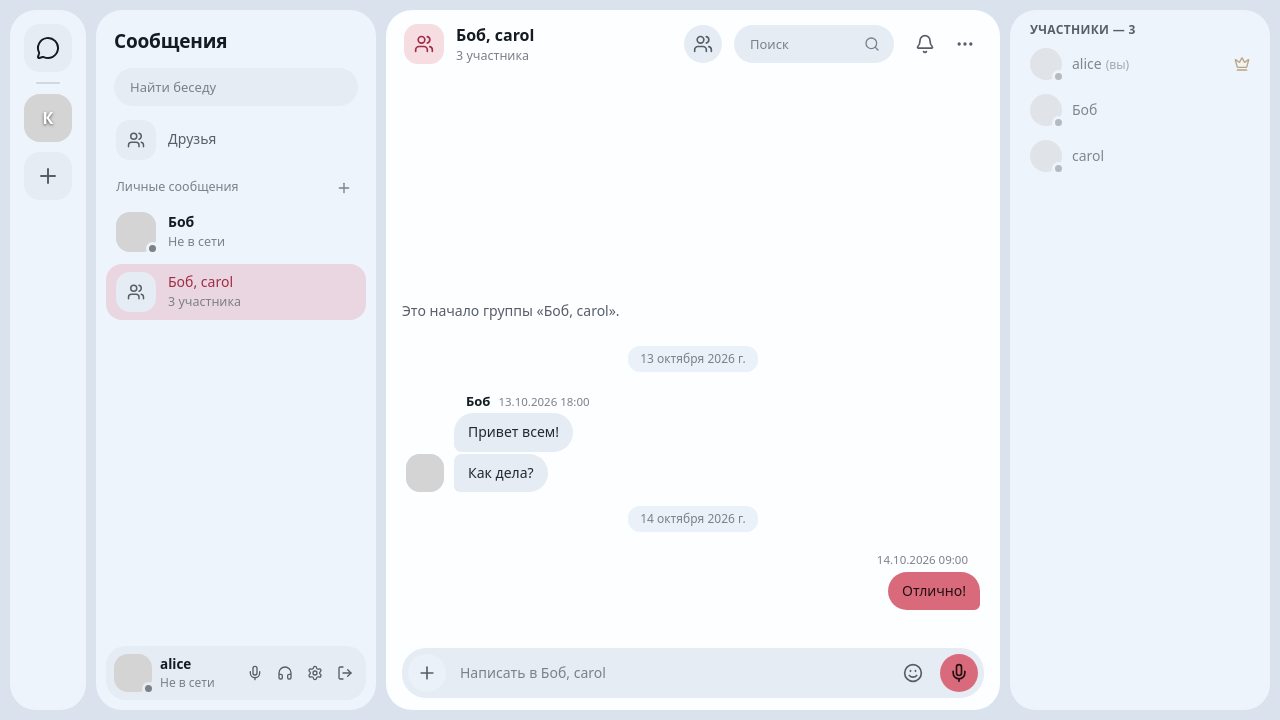
Scenario: group DMs › keeps the group actions behind "more" too, for screens with no room for them
The width and height of the screenshot is (1280, 720).
Click the button named "Ещё" at (965, 44), box [946, 25, 984, 63]
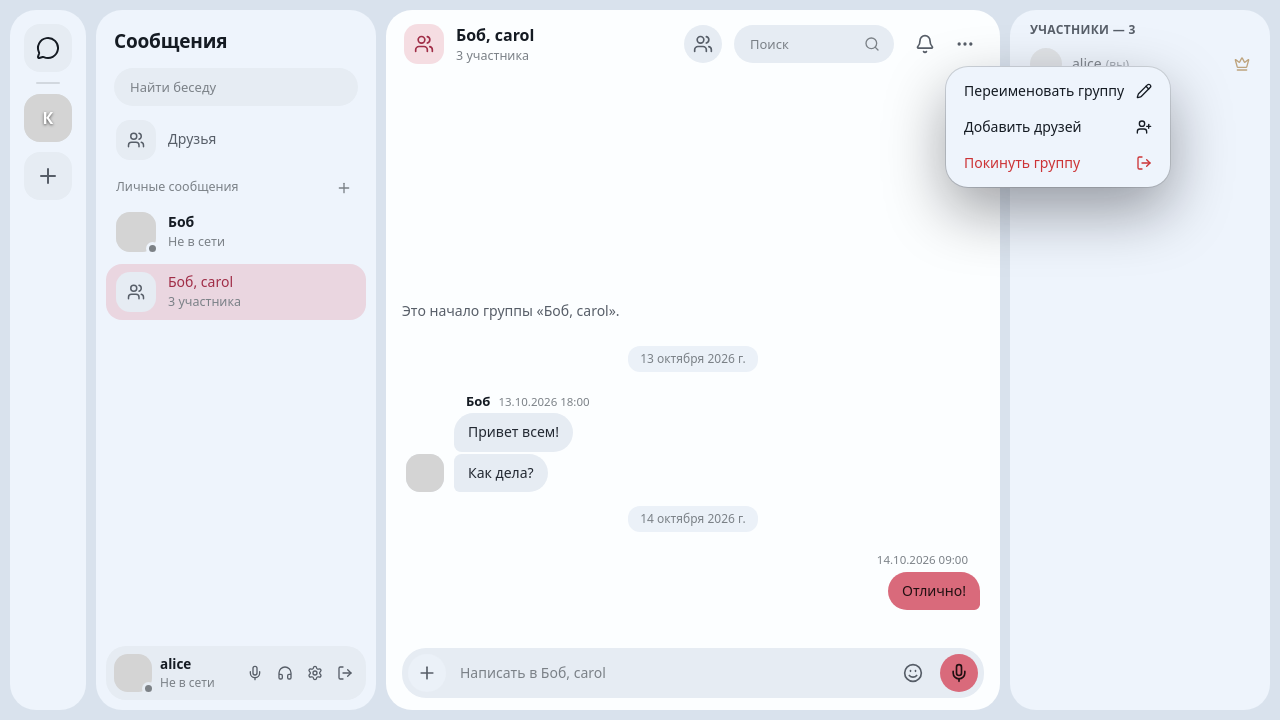
Click the menu item "Переименовать группу" at (1058, 90), box [964, 81, 1152, 100]
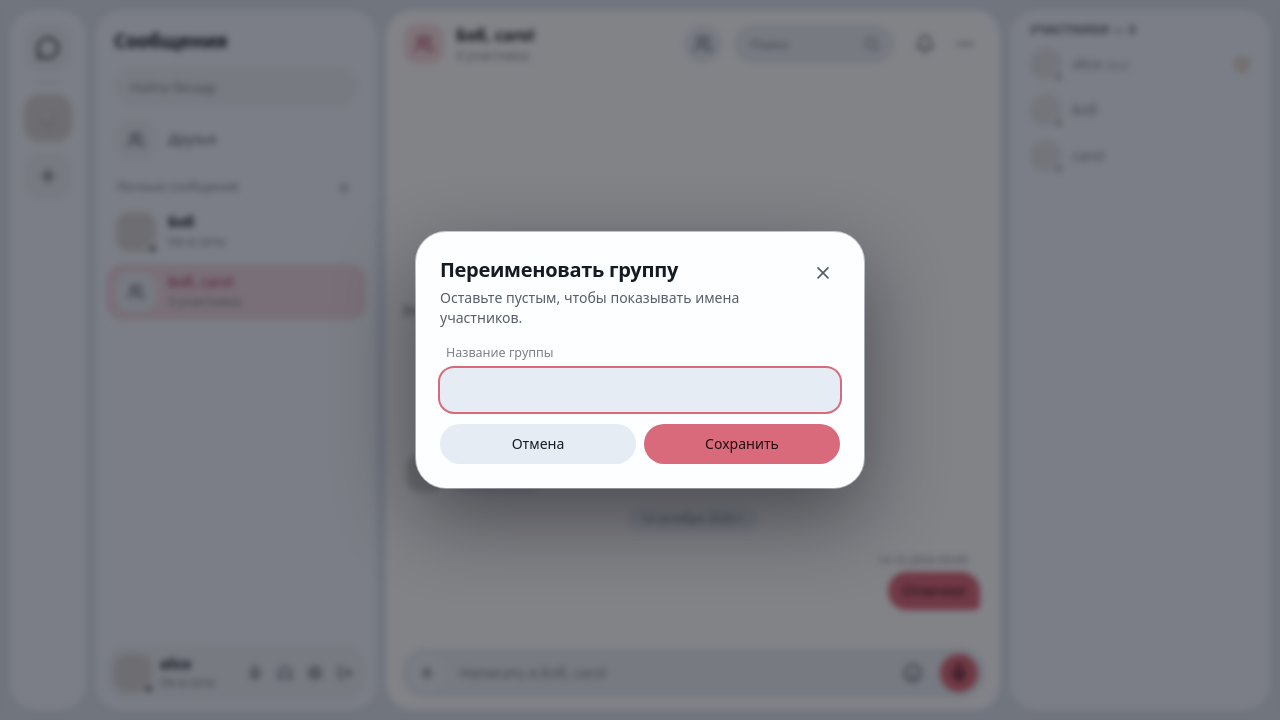
Expected: the dialog "Переименовать группу" is shown, [416, 232, 864, 488]
